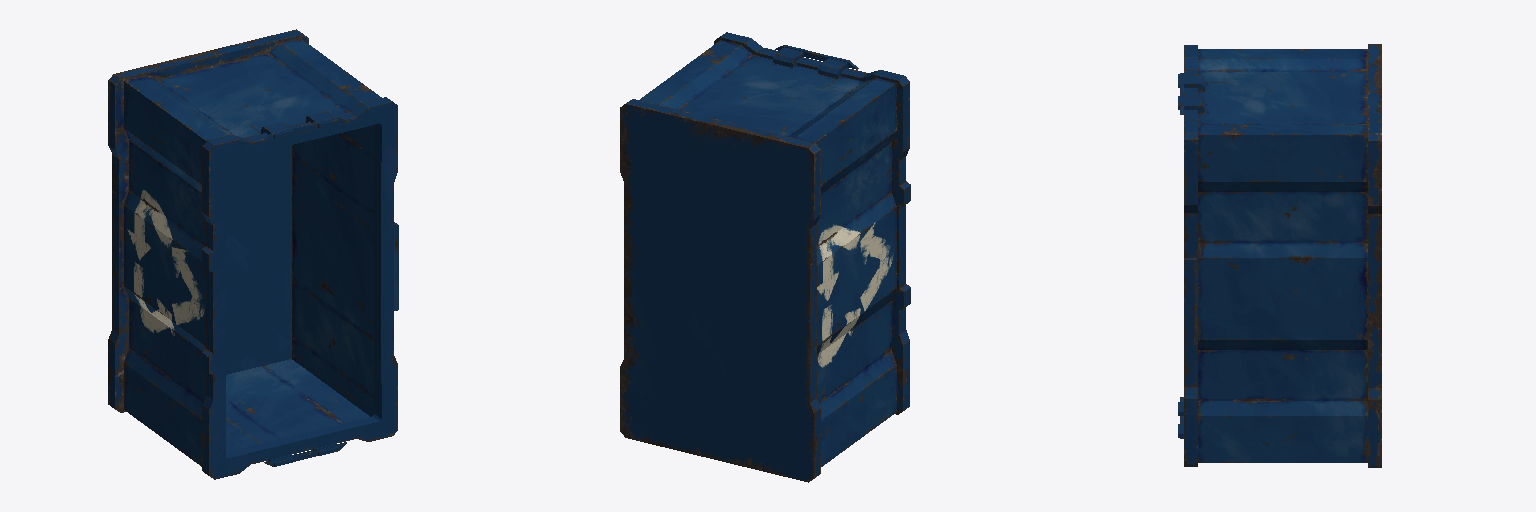
The picture shows the model from 3 angles: view 1: azimuth 30°, elevation 25°; view 2: azimuth 150°, elevation 25°; view 3: azimuth 270°, elevation 25°; orthographic projection.
Parts seen in each view (by area): view 1: Dumpster; view 2: Dumpster; view 3: Dumpster.
Part boxes in pixels (x1,y1,x2,y2): Dumpster: (108, 29, 398, 479); Dumpster: (620, 32, 910, 482); Dumpster: (1178, 44, 1381, 467).
Bounding box in the file's own units: 1.89 × 3.12 × 1.72.
Materials: 1 (1 with a texture image).